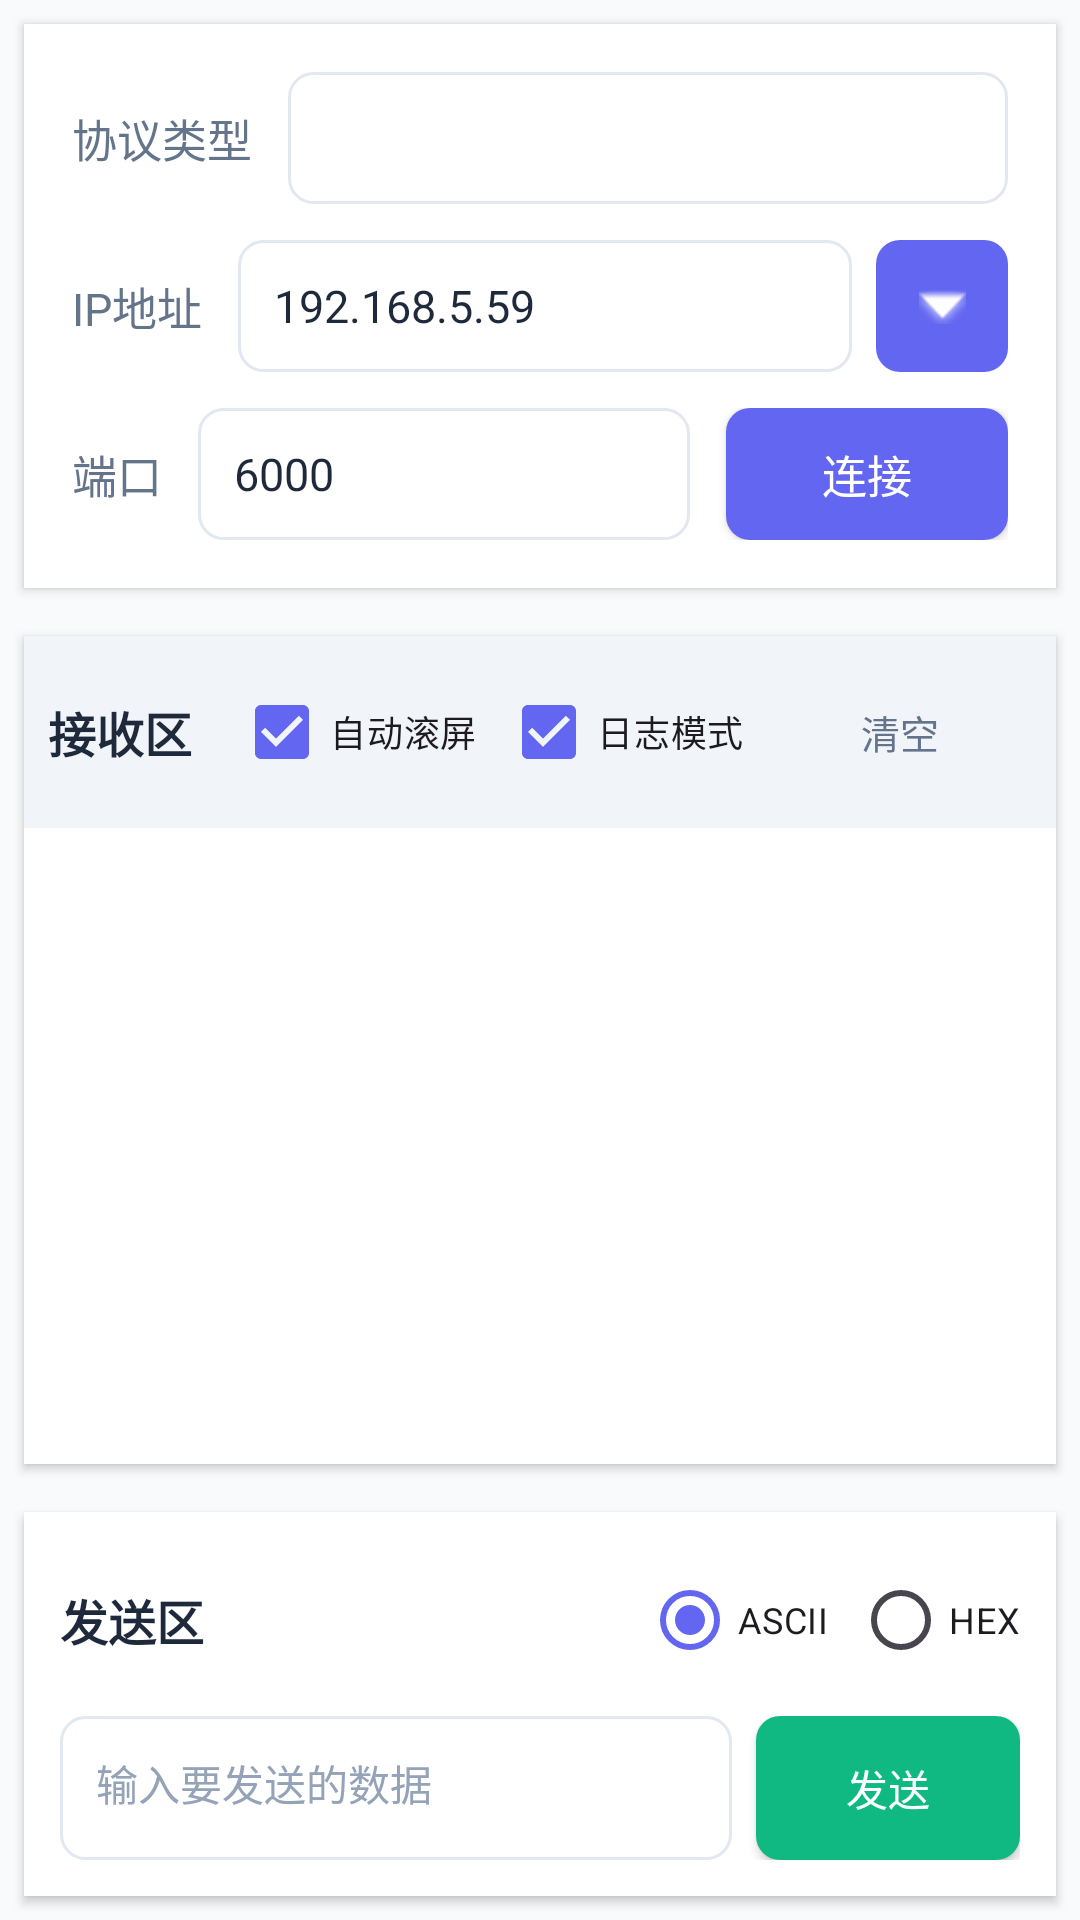

Icon click points for this 1080px x 1920px phone screenshot, format (x,y):
选择IP: (942,306)
